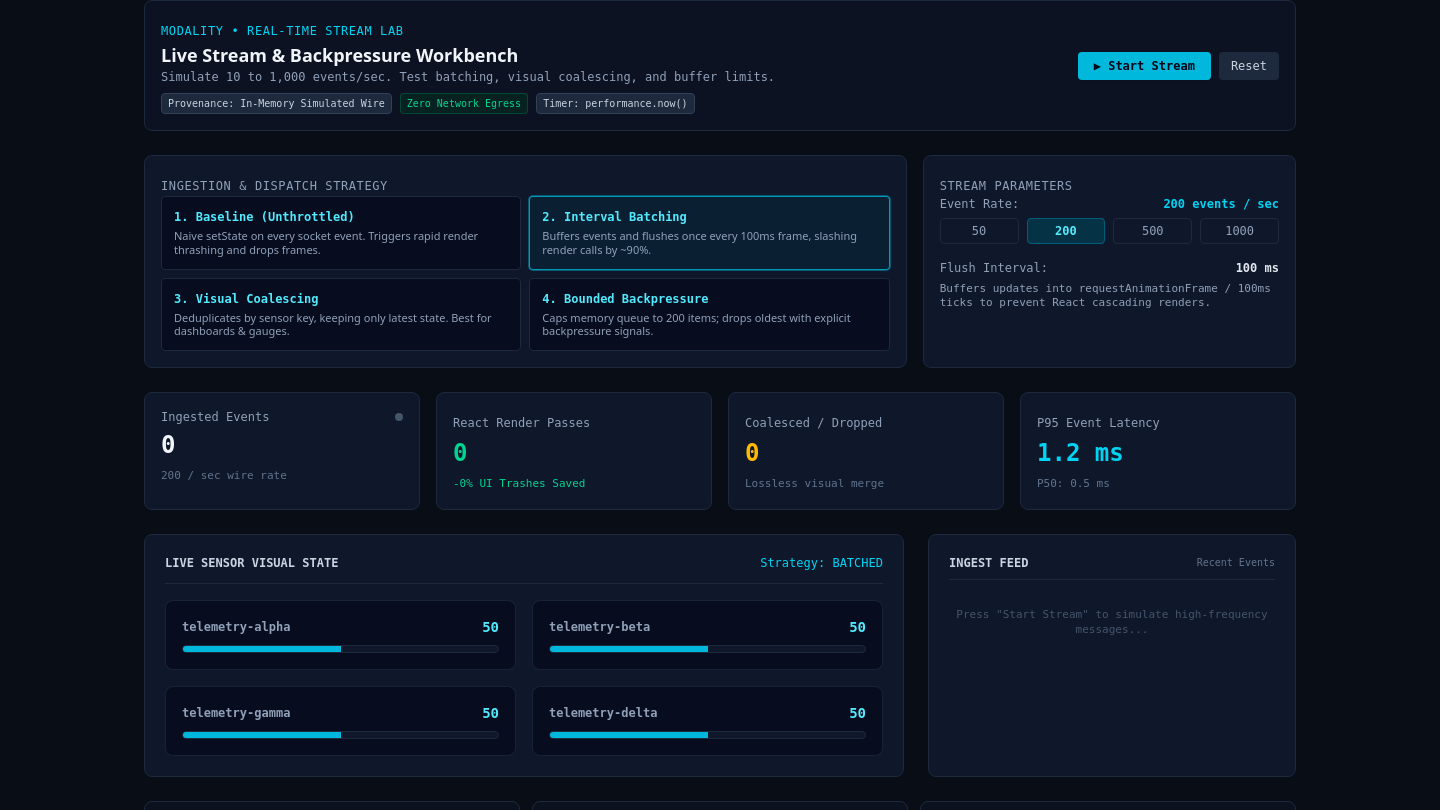
Scenario: StreamLabView and stream simulation hook › renders stream lab UI and allows strategy toggles
This screenshot has width=1440, height=810.
Expected: the heading "Live Stream & Backpressure Workbench" is shown, [161,43,518,67]
Expected: the button "▶ Start Stream" is shown, [1078,52,1211,80]
Click the text "1. Baseline (Unthrottled)". click: [264, 217]
box: [174,210,355,224]
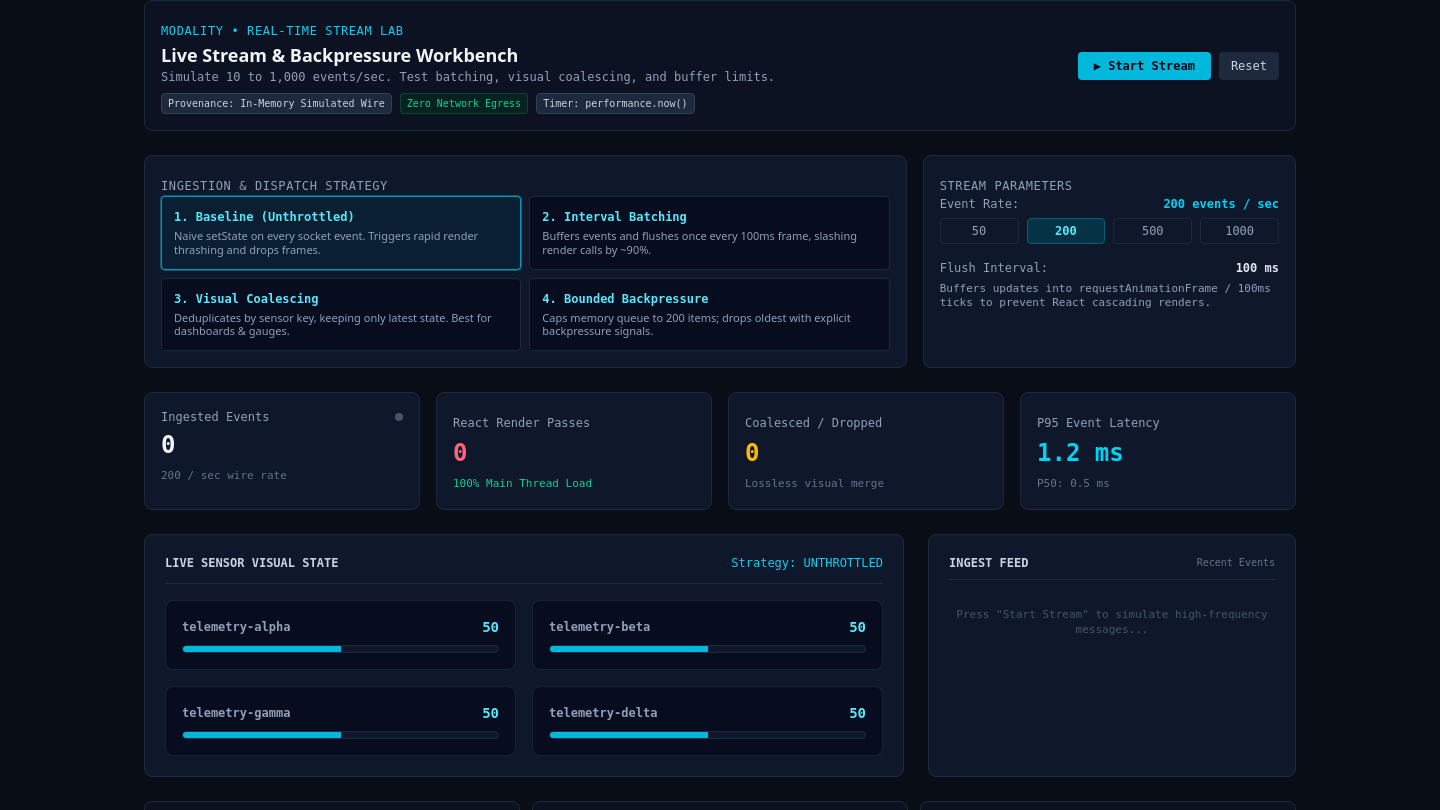
Result: the text "100% Main Thread Load" is shown at [453,477,592,490]
